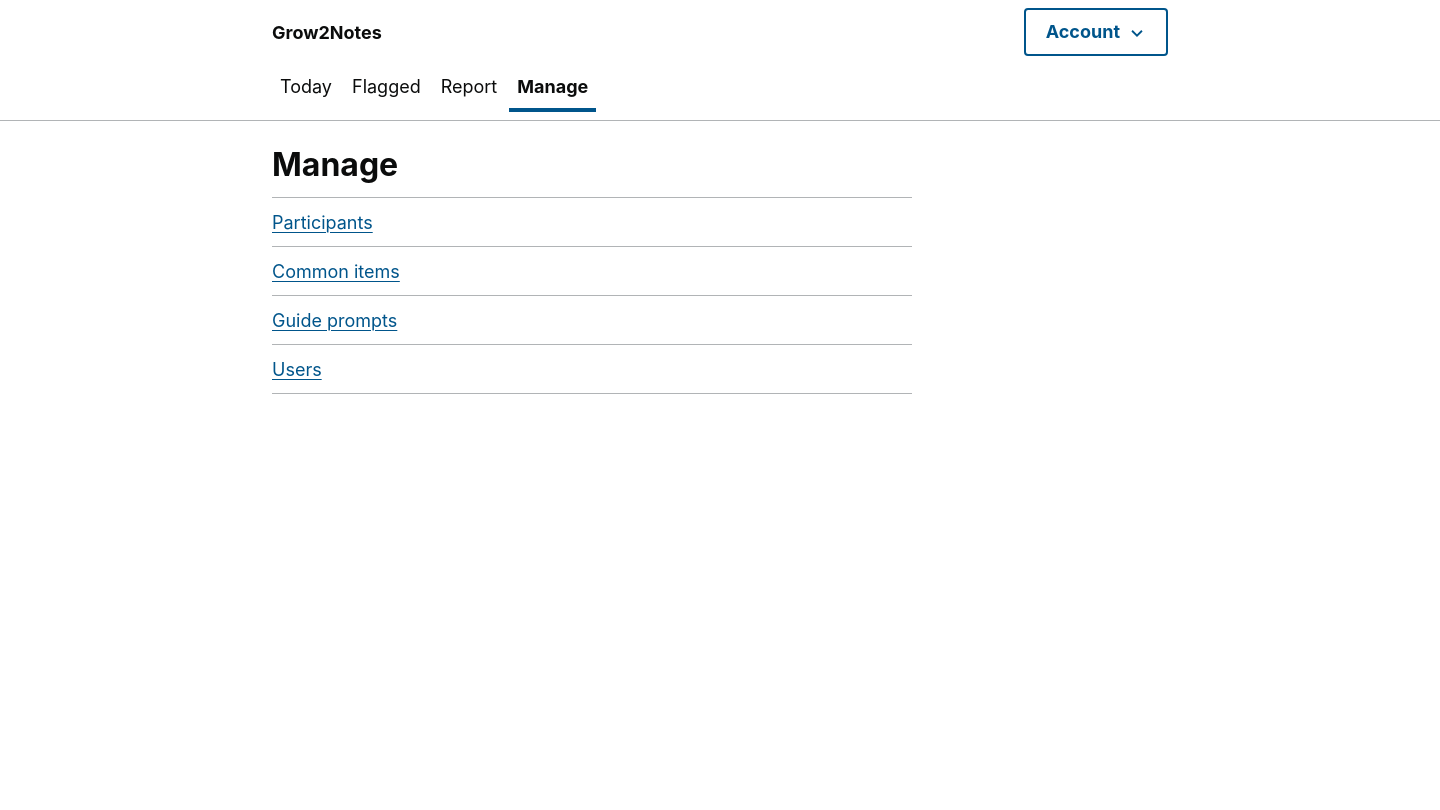
Manage › opens the editor from Guide prompts, not Page not found, with Manage still marked
This screenshot has width=1440, height=810.
Click the link "Guide prompts" at {"x": 335, "y": 320}, box [272,310,397,330]
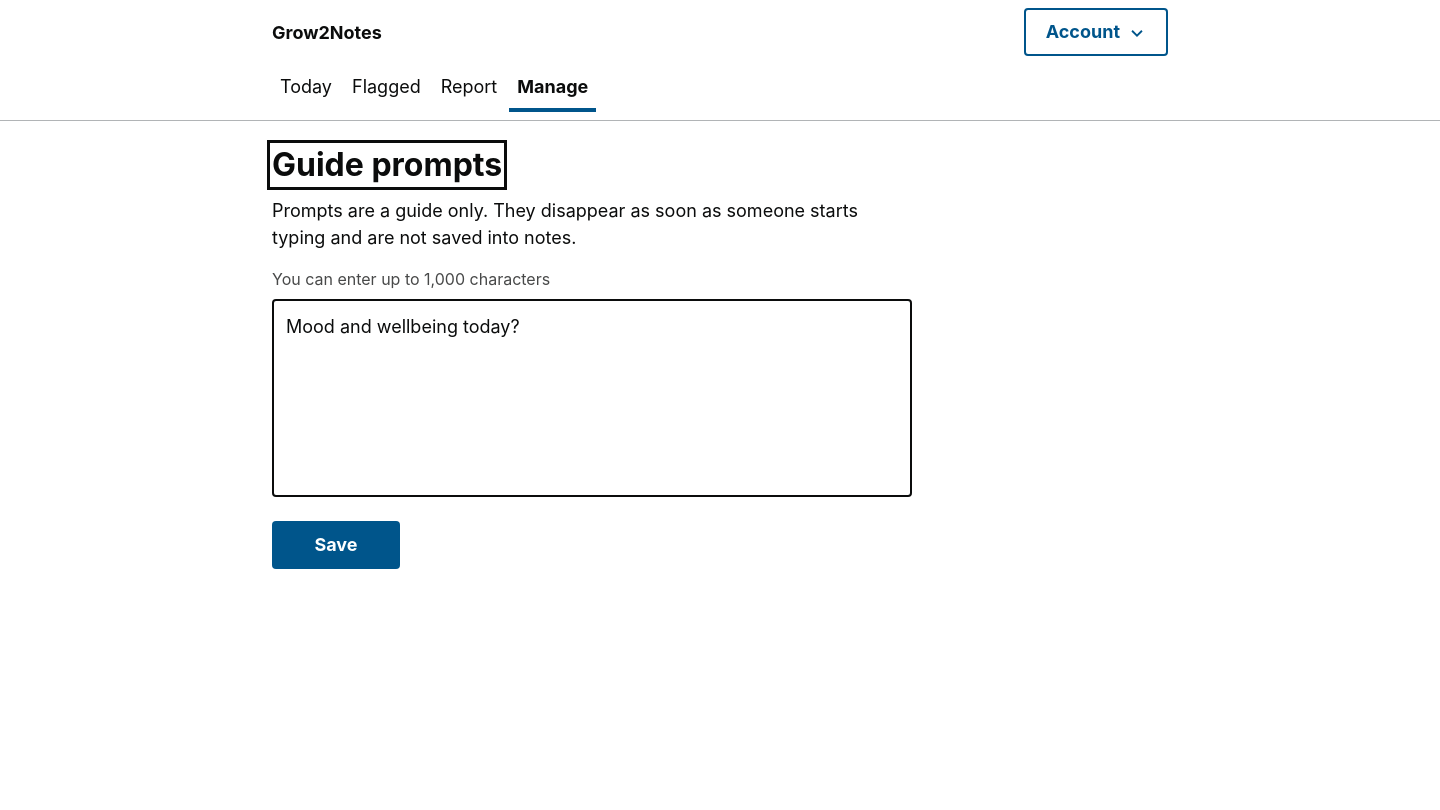
Expected: the text box labelled "Guide prompts" holds "Mood and wellbeing today?", [272,299,912,497]
